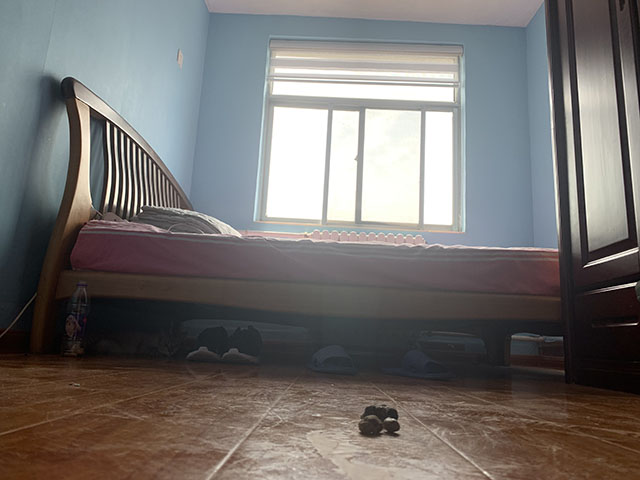bed: (25, 75, 560, 367)
cabinet: (543, 1, 640, 394)
feces: (358, 402, 400, 437)
slippers: (376, 347, 457, 381), (301, 343, 359, 376)
